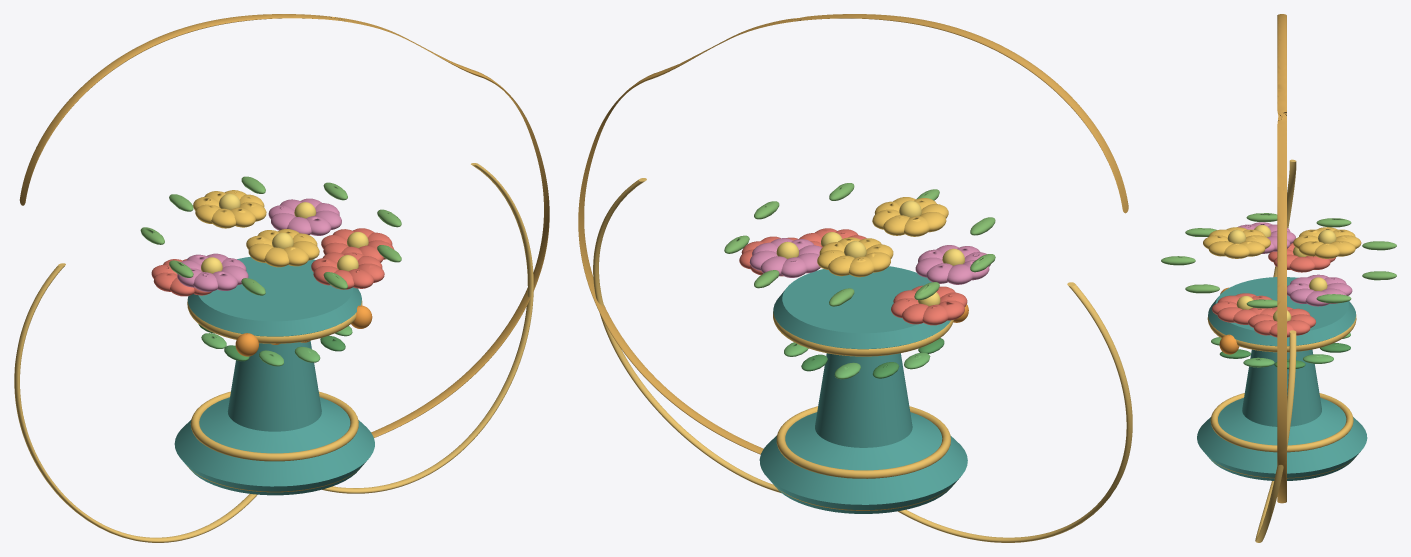
File: gblb_floral_window_sculpture.glb
3 views of the same model, side by side, from view 1: azimuth 30°, elevation 25°; view 2: azimuth 150°, elevation 25°; view 3: azimuth 270°, elevation 25° (orthographic). The views are drawn at different scales.
Bounding box in the file's own units: 1.41 × 1.26 × 0.6371.
